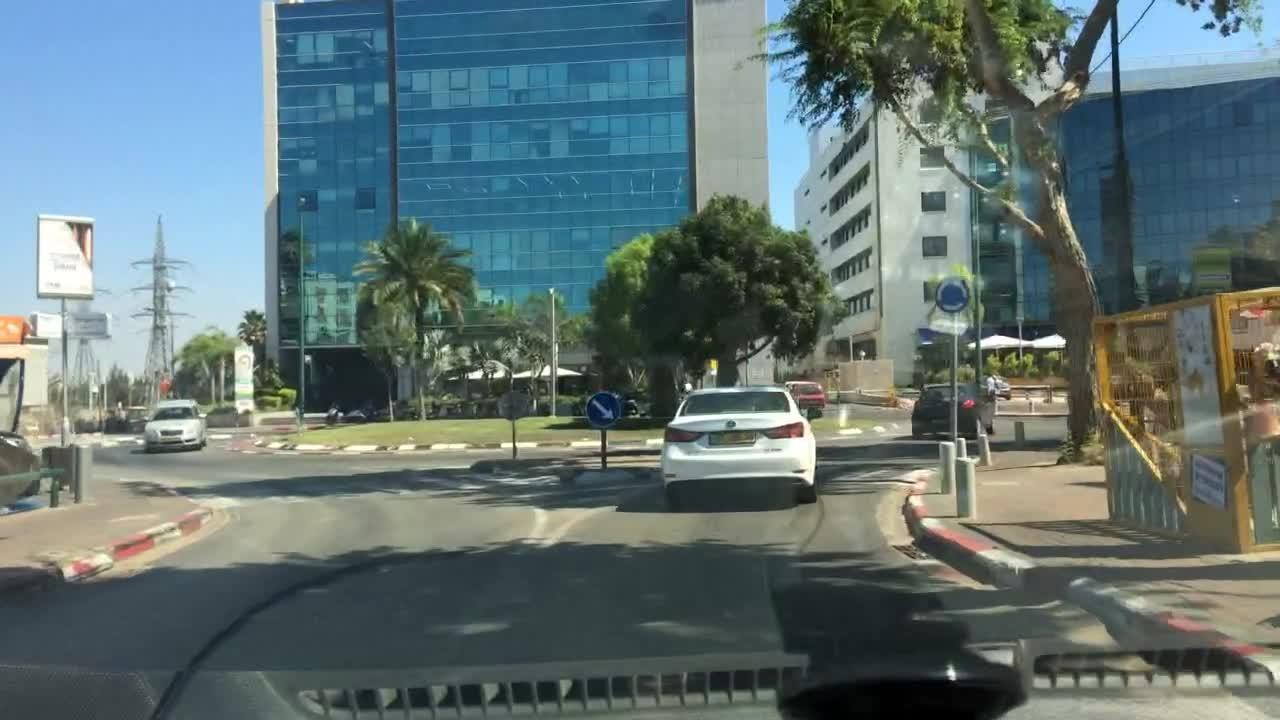bmw: (724, 418, 738, 430)
